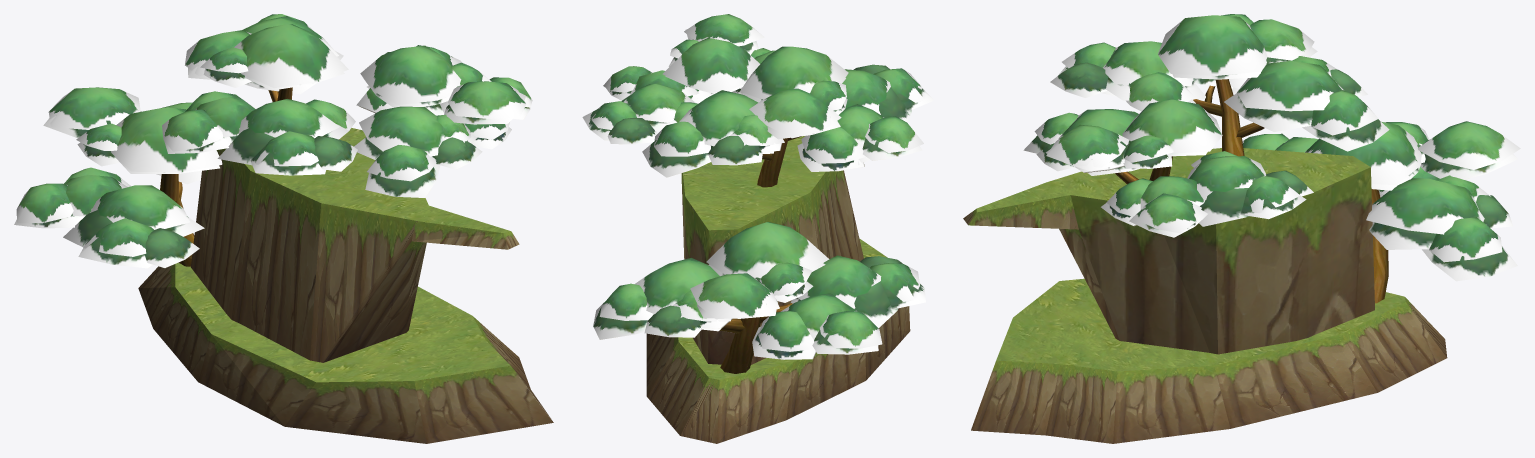
File: gonghui_daoyu_02 (1).fbx
The picture shows the model from 3 angles, left to right: view 1: azimuth 30°, elevation 25°; view 2: azimuth 150°, elevation 25°; view 3: azimuth 270°, elevation 25°; orthographic projection. The views are drawn at different scales.
Parts seen in each view (by area): view 1: gonghui_daoyu_02 (1); view 2: gonghui_daoyu_02 (1); view 3: gonghui_daoyu_02 (1).
Part boxes in pixels (bbox=[...]): gonghui_daoyu_02 (1): bbox=[14, 14, 553, 443]; gonghui_daoyu_02 (1): bbox=[582, 14, 934, 443]; gonghui_daoyu_02 (1): bbox=[963, 14, 1520, 443].
Bounding box in the file's own units: 10.06 × 8.23 × 11.91.
